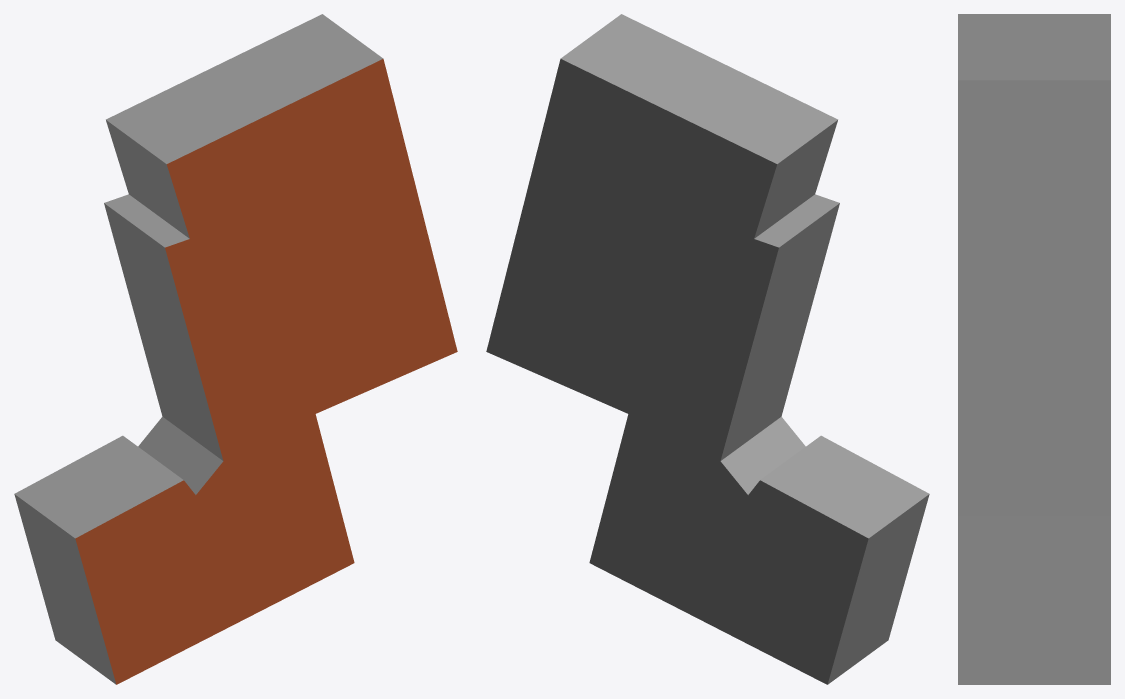
Rendered from construction_6579_assumed_A_Casa_h6m.obj.
The picture shows the model from 3 angles, left to right: view 1: azimuth 30°, elevation 25°; view 2: azimuth 150°, elevation 25°; view 3: azimuth 270°, elevation 25°; orthographic projection. The views are drawn at different scales.
Parts seen in each view (by area): view 1: construction_6579_assumed_A_Casa; view 2: construction_6579_assumed_A_Casa; view 3: construction_6579_assumed_A_Casa.
Part boxes in pixels (x1=…): construction_6579_assumed_A_Casa: x1=14, y1=14, x2=457, y2=684; construction_6579_assumed_A_Casa: x1=486, y1=14, x2=929, y2=684; construction_6579_assumed_A_Casa: x1=958, y1=14, x2=1110, y2=684.
Size of the model in its own units: 21.71 by 30.44 by 6.
